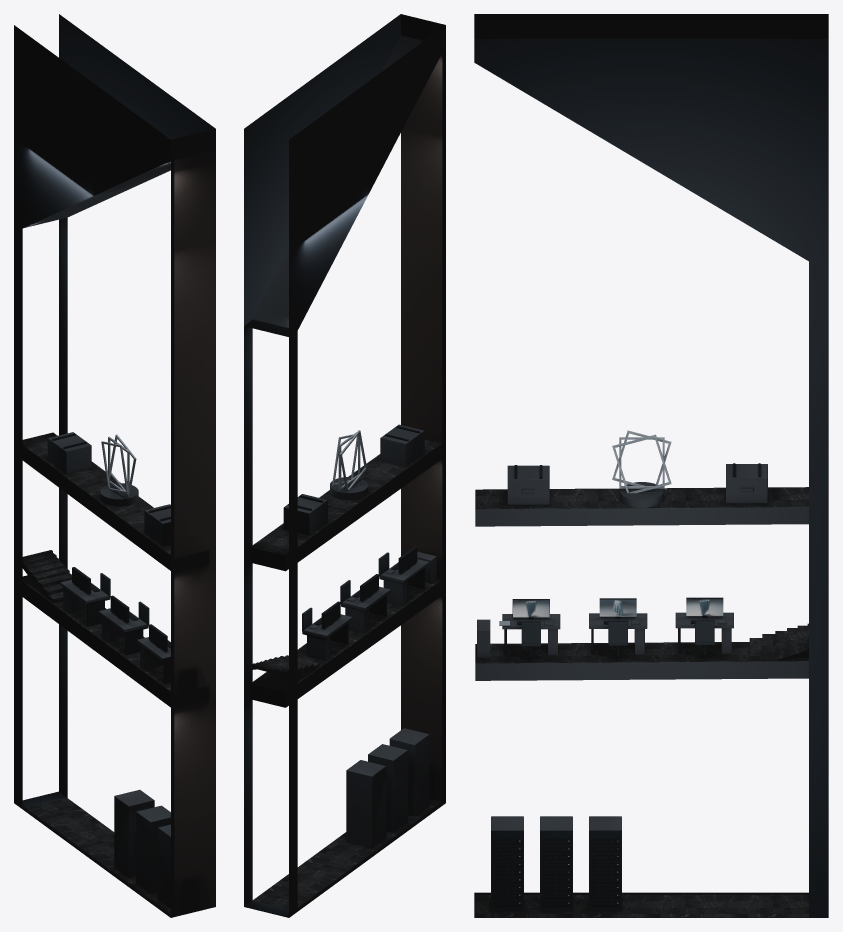
File: cgi-front-complete-v01.glb
3 renders of one model, left to right at view 1: azimuth 30°, elevation 25°; view 2: azimuth 150°, elevation 25°; view 3: azimuth 270°, elevation 25°, orthographic. The views are drawn at different scales.
Visible parts, largest first — view 1: CGI_COMPLETE_BAKED_FRONT; view 2: CGI_COMPLETE_BAKED_FRONT; view 3: CGI_COMPLETE_BAKED_FRONT.
Part boxes in pixels (bbox=[...]): CGI_COMPLETE_BAKED_FRONT: bbox=[14, 14, 215, 917]; CGI_COMPLETE_BAKED_FRONT: bbox=[244, 14, 445, 917]; CGI_COMPLETE_BAKED_FRONT: bbox=[474, 14, 828, 917].
Bounding box in the file's own units: 0.4193 × 6.93 × 2.53.
Materials: 3 (3 with a texture image).
